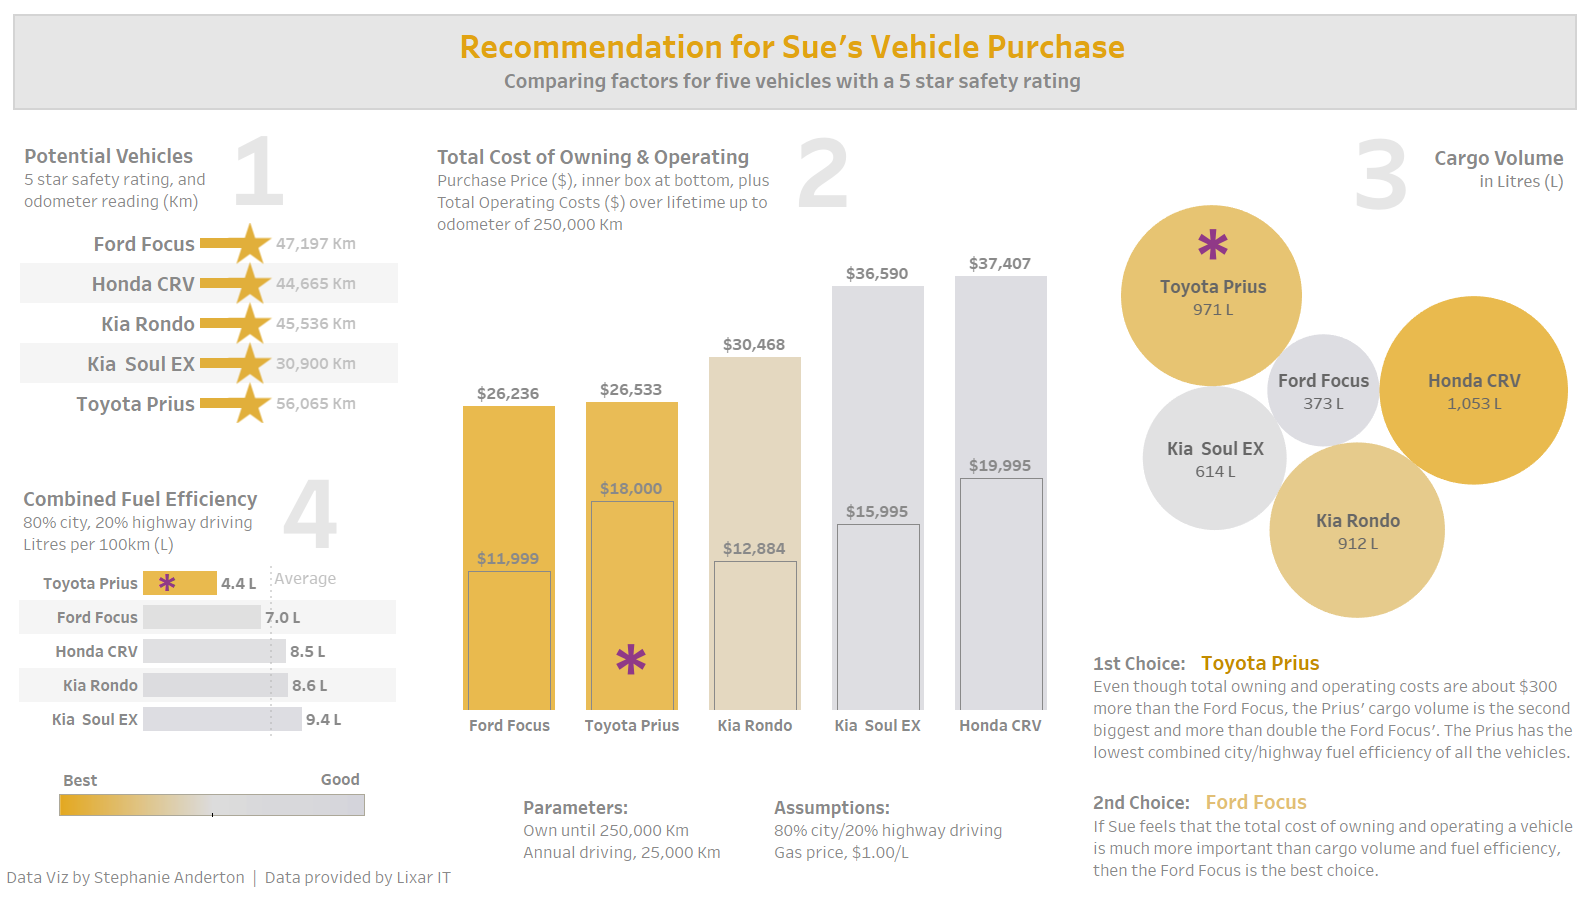

What the dashboard file says about the page in this screenshot:
{"tool":"tableau","page":{"name":"Dashboard v1","canvas":[1600,900],"ordinal":1},"visuals":[{"type":"blank","box":[8,8,1584,884]},{"type":"text","box":[17.6,16.4,1564.9,206.3]},{"type":"text","box":[269.4,16.4,1306,202.7]},{"type":"text","box":[52.7,23.4,208.5,173.4]},{"type":"text","box":[1336,205,100,130]},{"type":"text","box":[853,206,100,130]},{"type":"text","box":[200,209,100,130]},{"type":"worksheet","title":"Cargo Vol (bubble)","mark":"Circle","box":[1109,242,464,513]},{"type":"worksheet","title":"Total C of O","mark":"Bar","rows":["Price","Calculation_2514416034980556803"],"cols":["Calculation_2514416034985615364"],"box":[433,244,652,593]},{"type":"worksheet","title":"Safety","mark":"Bar","rows":["Calculation_2514416034985615364"],"cols":["Safety Rating","Safety Rating"],"box":[23,246,395,322]},{"type":"text","box":[1304,540,100,102]},{"type":"text","box":[208,546,100,130]},{"type":"worksheet","title":"City FE","mark":"Bar","rows":["Calculation_2514416034985615364"],"cols":["City Fuel Efficiency (L/100km)"],"box":[22,583,391,284]},{"type":"text","box":[584,722,100,76]},{"type":"text","box":[1198,772,112,30]},{"type":"text","box":[1392,772,100,30]},{"type":"legend","title":"Total C of O","param":"[federated.08skwla0rldrv815ixnnc1yjt3bl].[attr:Price:qk]","box":[1127,799,437,34]},{"type":"text","box":[1104,850,485,40]}]}

Visuals, with their boxes in screenshot pixels (x1, y1, x2, y2), scaled from the page's 1600x900 canvas onto the 1592x900 screenshot:
blank: (8,8,1584,892)
text: (18,16,1575,223)
text: (268,16,1568,219)
text: (52,23,260,197)
text: (1329,205,1429,335)
text: (849,206,948,336)
text: (199,209,298,339)
"Cargo Vol (bubble)" worksheet (Circle marks): (1103,242,1565,755)
"Total C of O" worksheet (Bar marks): (431,244,1080,837)
"Safety" worksheet (Bar marks): (23,246,416,568)
text: (1297,540,1397,642)
text: (207,546,306,676)
"City FE" worksheet (Bar marks): (22,583,411,867)
text: (581,722,681,798)
text: (1192,772,1303,802)
text: (1385,772,1485,802)
"Total C of O" legend: (1121,799,1556,833)
text: (1098,850,1581,890)
